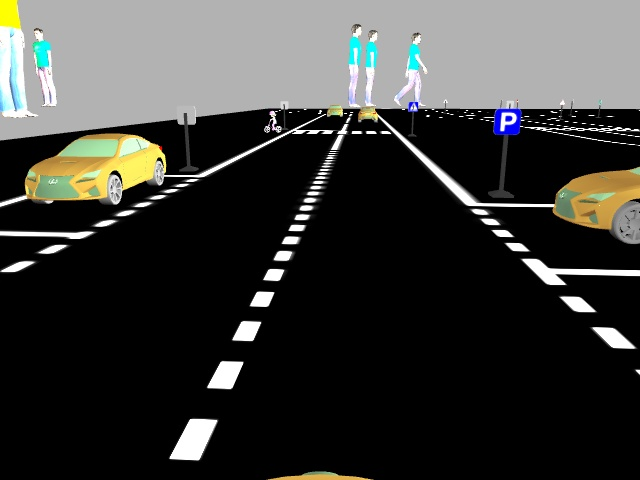Parking: (491, 105, 522, 139)
